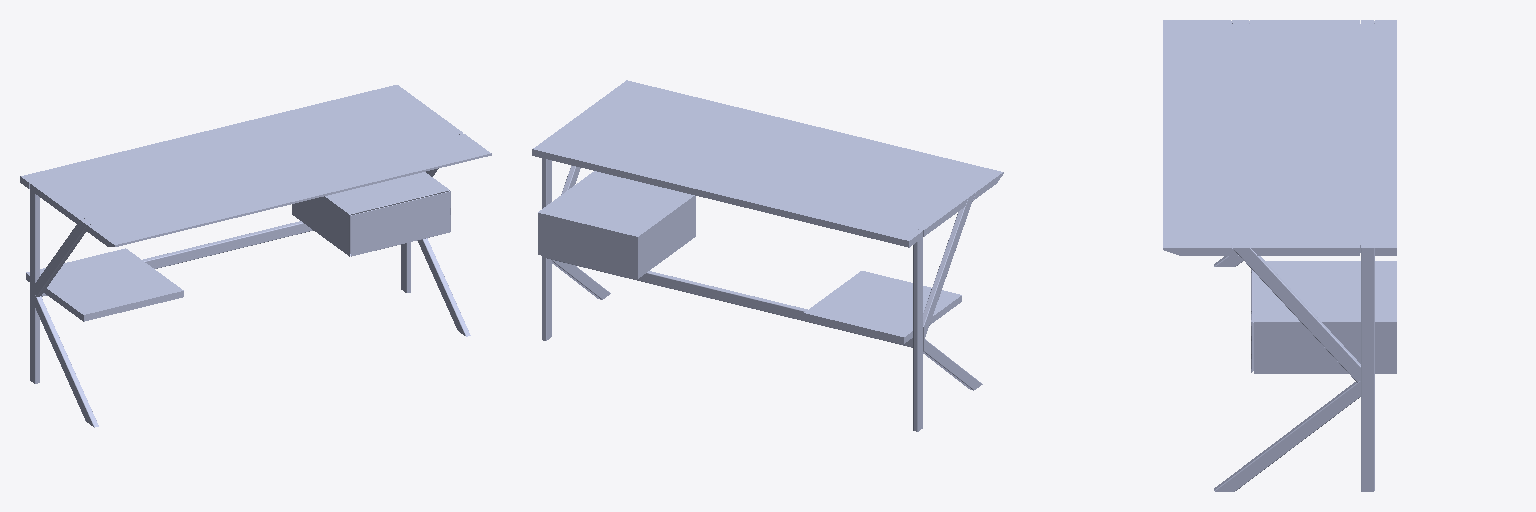
The robot description file, URDF, robot "desk_study":
<robot
  name="desk_study">
  <link
    name="desk_study">
    <inertial>
      <origin
        xyz="0.085674 0.061346 -0.13683"
        rpy="0 0 0" />
      <mass
        value="42.881" />
      <inertia
        ixx="2.69795831881645"
        ixy="0.242859814363661"
        ixz="-0.460253047467825"
        iyy="12.2053387922709"
        iyz="0.422183356087361"
        izz="12.0129764039982" />
    </inertial>
    <visual>
      <origin
        xyz="0 0 0"
        rpy="0 0 0" />
      <geometry>
        <mesh
          filename="package://desk_study/meshes/desk_study.dae" />
      </geometry>
      <material
        name="">
        <color
          rgba="0.79216 0.81961 0.93333 1" />
      </material>
    </visual>
    <collision>
      <origin
        xyz="0 0 0"
        rpy="0 0 0" />
      <geometry>
        <mesh
          filename="package://desk_study/meshes/desk_study.dae" />
      </geometry>
    </collision>
  </link>
</robot>

--- Facts derived from the render (not from the file) ---
Views: 3 orthographic renders of the robot side by side, from view 1: azimuth 30°, elevation 25°; view 2: azimuth 150°, elevation 25°; view 3: azimuth 270°, elevation 25°.
Model desk_study with 1 links and 0 joints (none), rooted at desk_study, posed all joints at 0.
Visible links, largest first — view 1: desk_study; view 2: desk_study; view 3: desk_study.
Link boxes in pixels (<box>): desk_study: <box>20,85,491,427</box>; desk_study: <box>532,80,1003,431</box>; desk_study: <box>1163,20,1396,491</box>.
Bounding box of the posed robot: 1.5 × 0.65 × 0.75 m (x, y, z).
1 mesh visuals loaded from 1 distinct referenced files (1 Collada DAE).